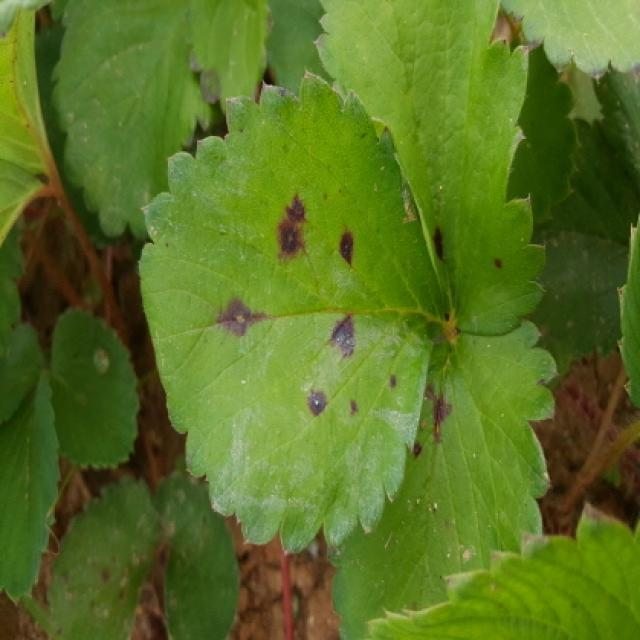Leaf Spot: (139, 68, 446, 559), (311, 0, 549, 338), (327, 321, 559, 638), (45, 479, 163, 638)
